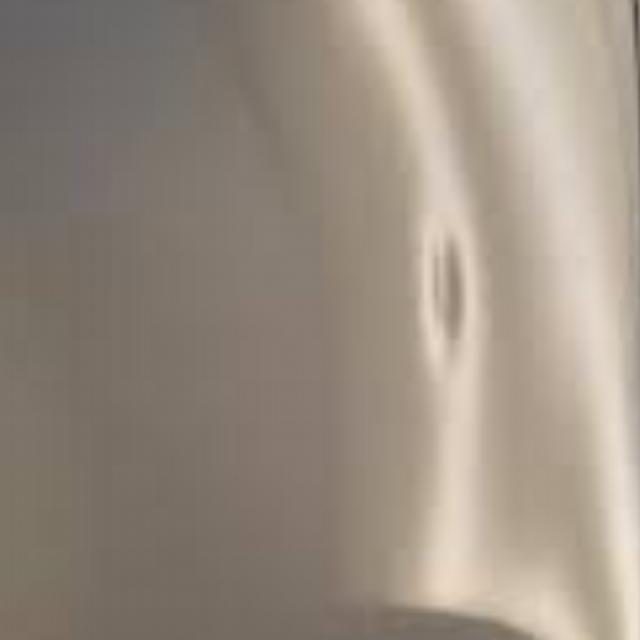dents: (396, 220, 482, 357)
